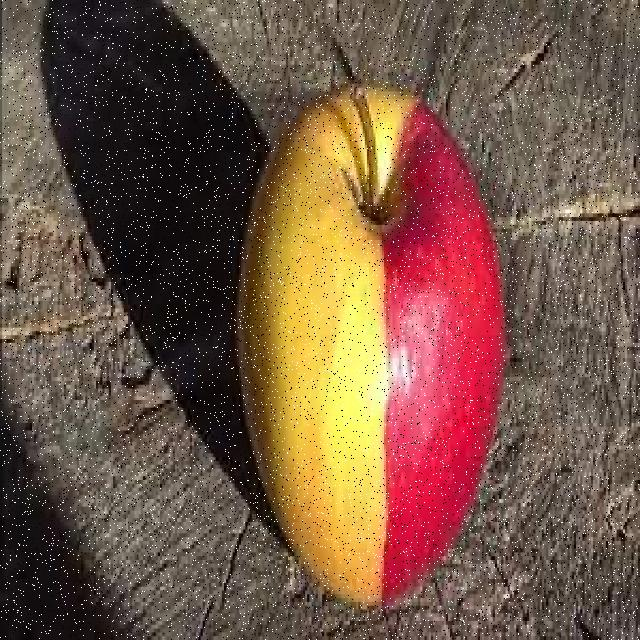Apple: (238, 81, 507, 598)
